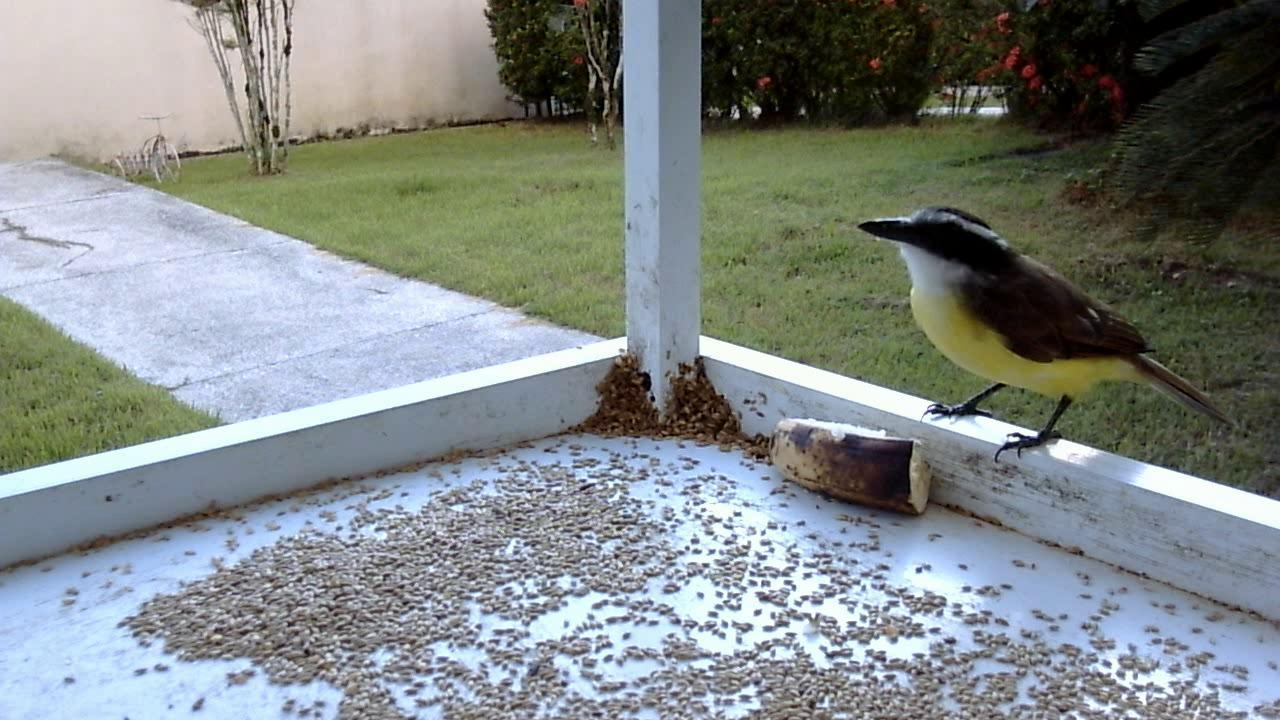bem_te_vi: (838, 193, 1243, 480)
